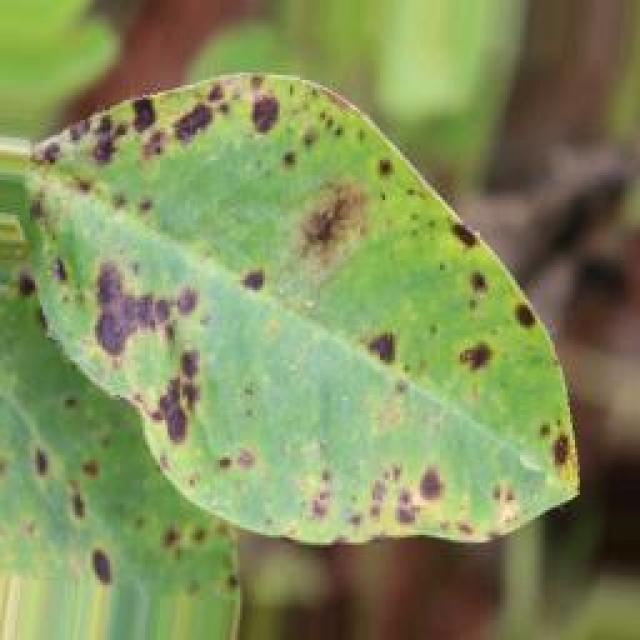Yellowish: (20, 76, 590, 585)
